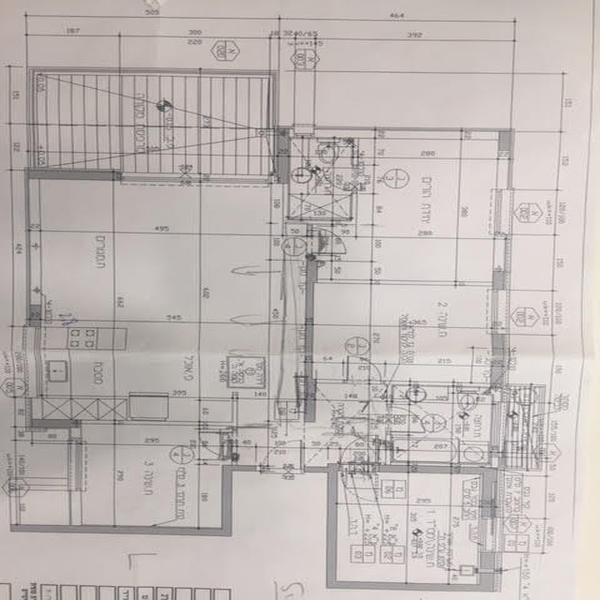room: (307, 251, 509, 434), (331, 463, 500, 594)
wall: (8, 525, 231, 535), (305, 254, 317, 421), (332, 580, 494, 591), (25, 168, 117, 184), (377, 463, 498, 475), (327, 468, 337, 586), (218, 468, 235, 531), (274, 125, 290, 184), (493, 329, 507, 383)
